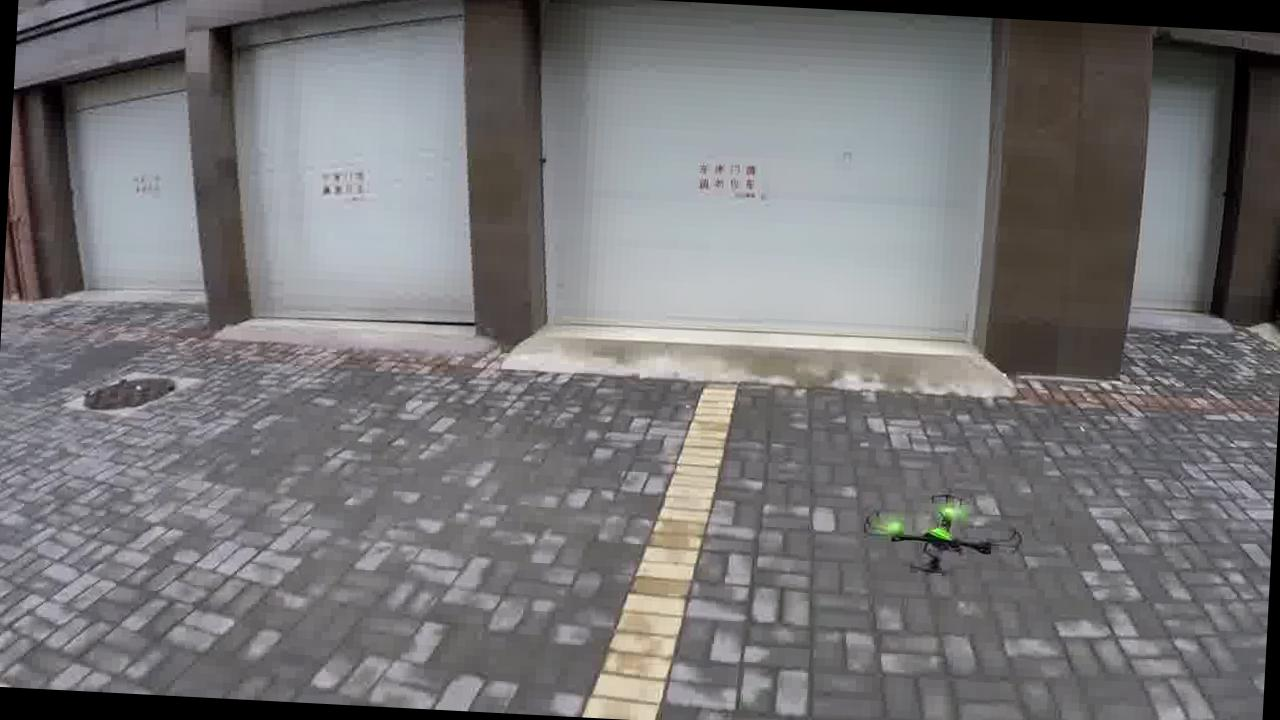drone: (848, 482, 1038, 591)
